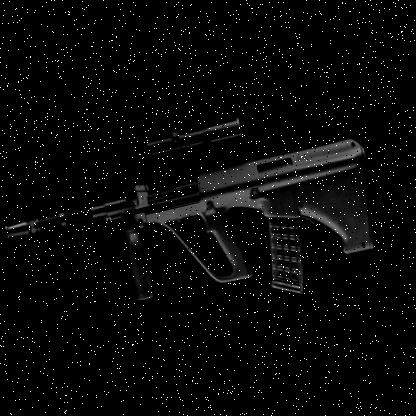rifle: (0, 77, 398, 368)
